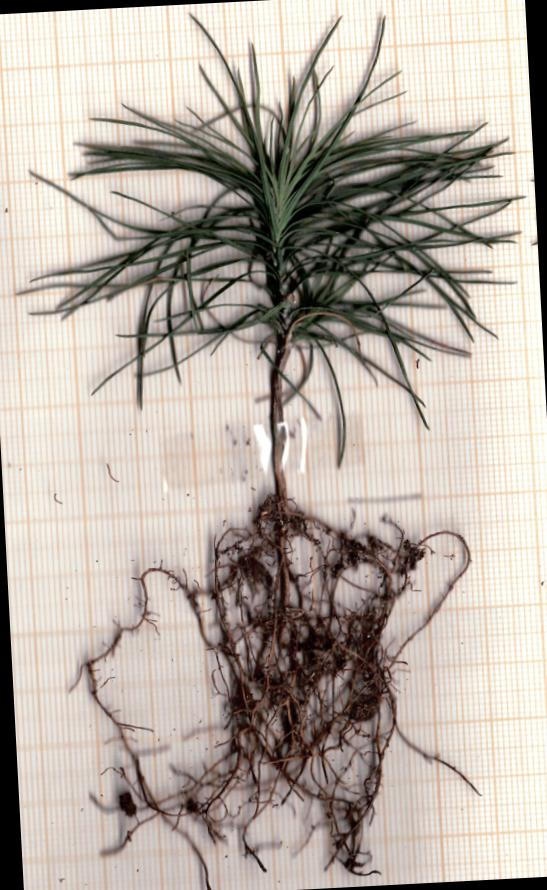flower: (24, 17, 515, 464)
root: (80, 495, 477, 889)
stem: (270, 334, 290, 500)
